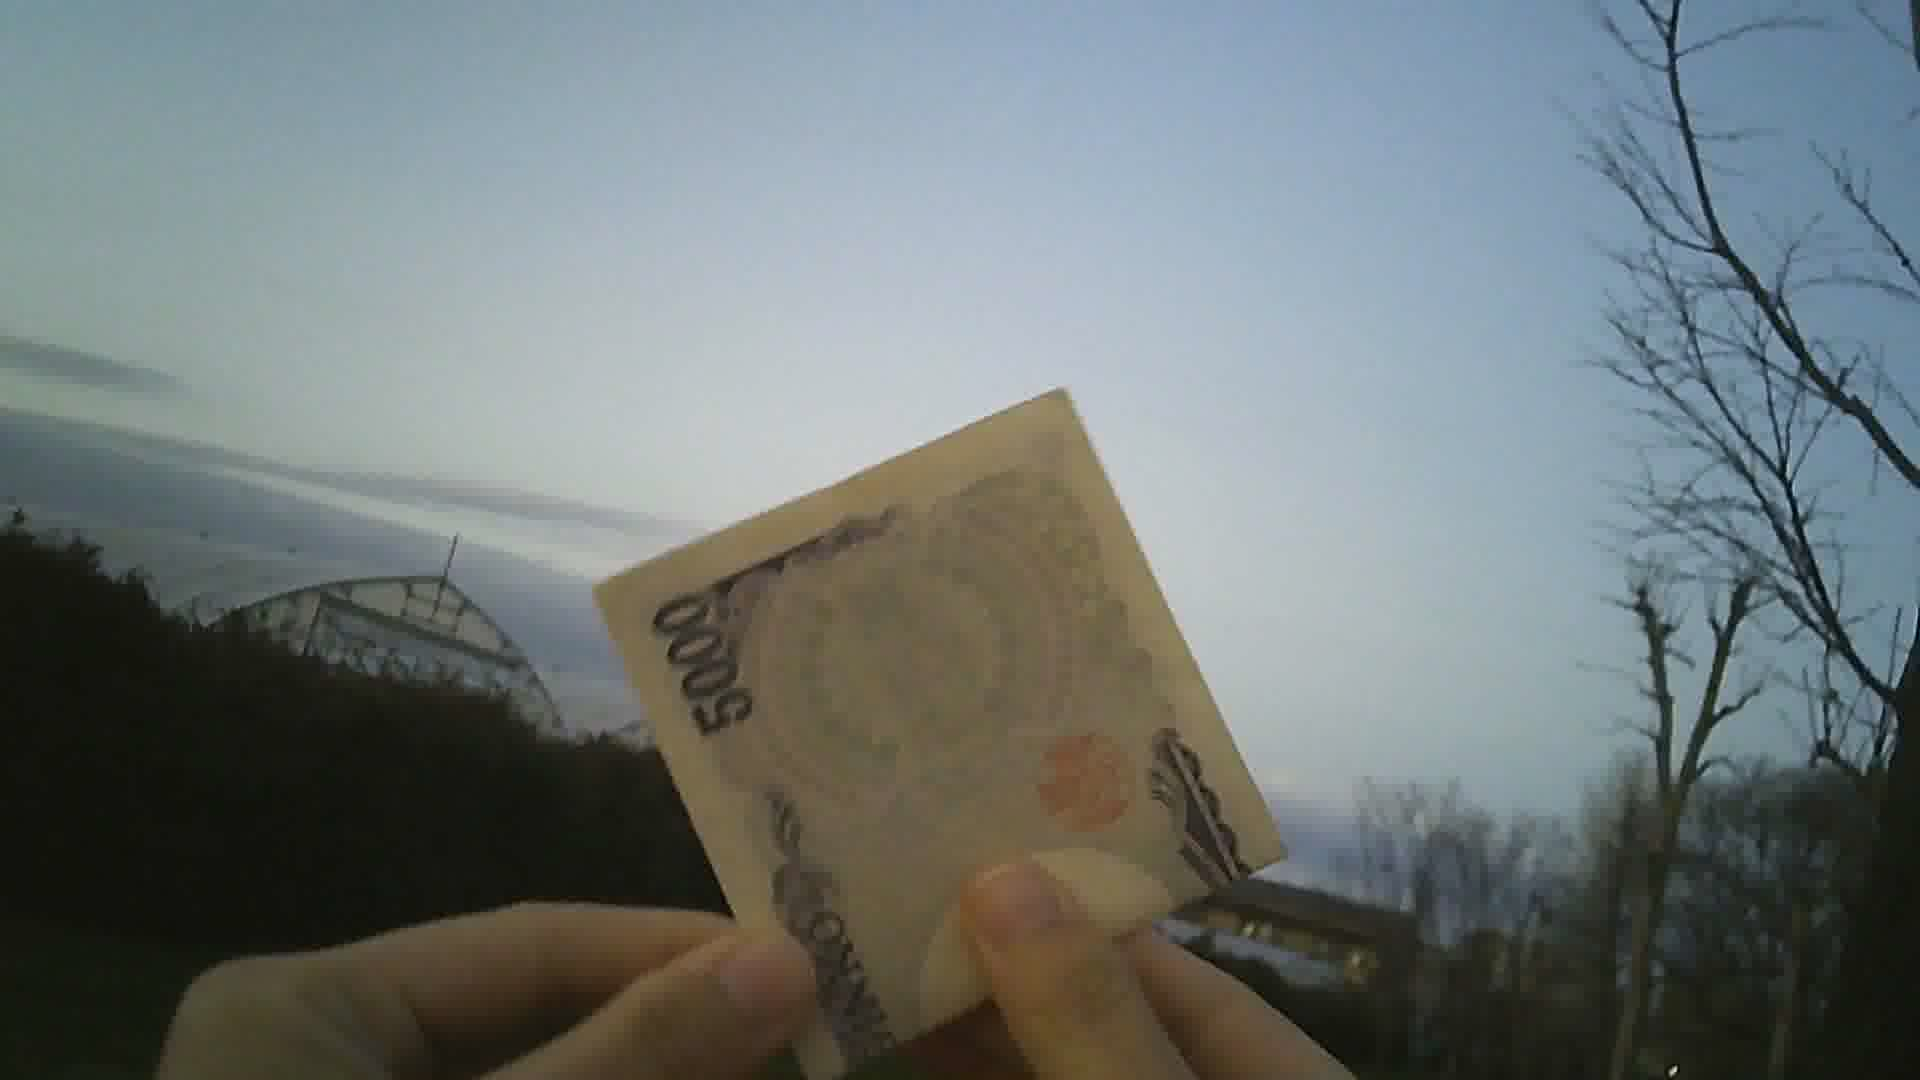5,000 Yen: (593, 378, 1302, 1073)
